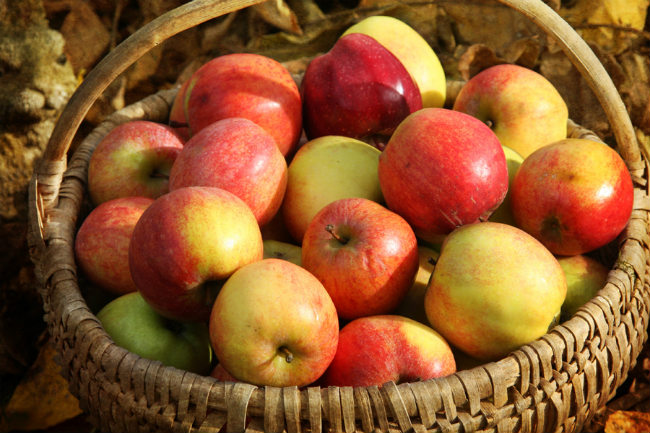apple: (419, 218, 568, 355), (128, 180, 265, 323), (373, 100, 507, 241), (205, 258, 336, 390), (513, 135, 638, 263), (297, 30, 423, 154), (297, 195, 419, 318), (176, 52, 306, 148)
